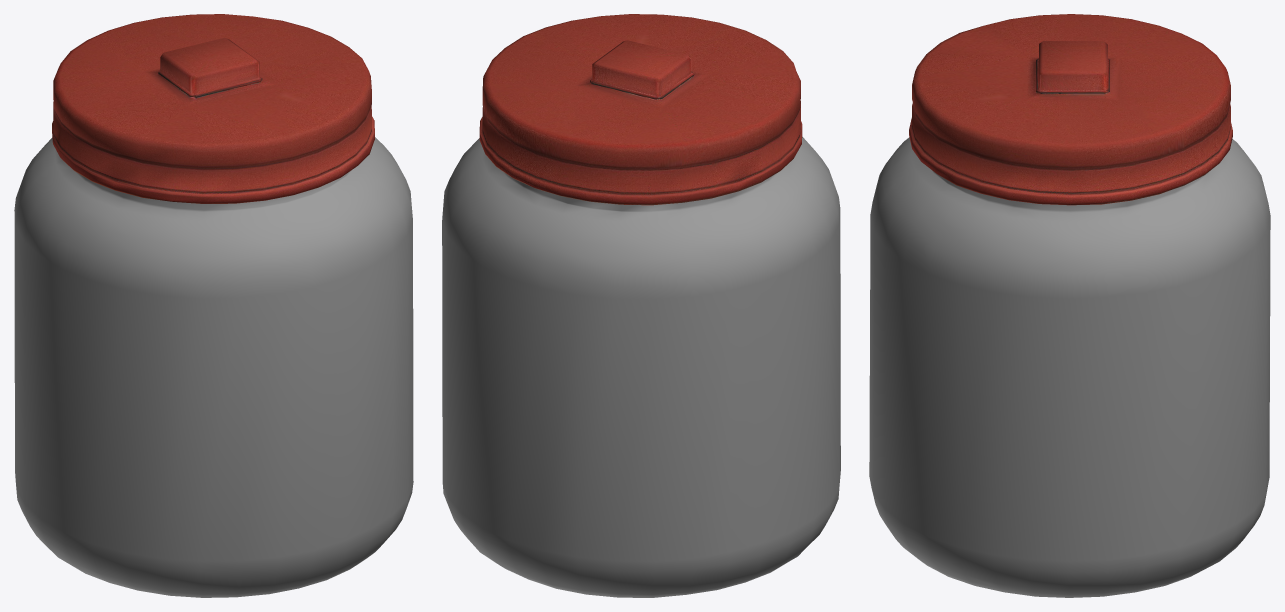
The model's file is stege4_rice_bottle.fbx.
The picture shows the model from 3 angles, left to right: view 1: azimuth 30°, elevation 25°; view 2: azimuth 150°, elevation 25°; view 3: azimuth 270°, elevation 25°; orthographic projection.
Visible parts, largest first — view 1: stege4_rice_bottle; view 2: stege4_rice_bottle; view 3: stege4_rice_bottle.
Part boxes in pixels (x1,y1,x2,y2): stege4_rice_bottle: (14, 14, 413, 597); stege4_rice_bottle: (442, 14, 840, 597); stege4_rice_bottle: (869, 14, 1270, 597).
Size of the model in its own units: 29.06 by 37.79 by 29.21.
